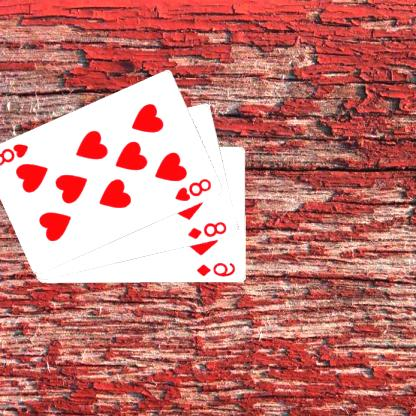6D: (196, 261, 239, 278)
8D: (187, 219, 230, 240)
8H: (174, 176, 216, 202), (0, 141, 32, 167)
